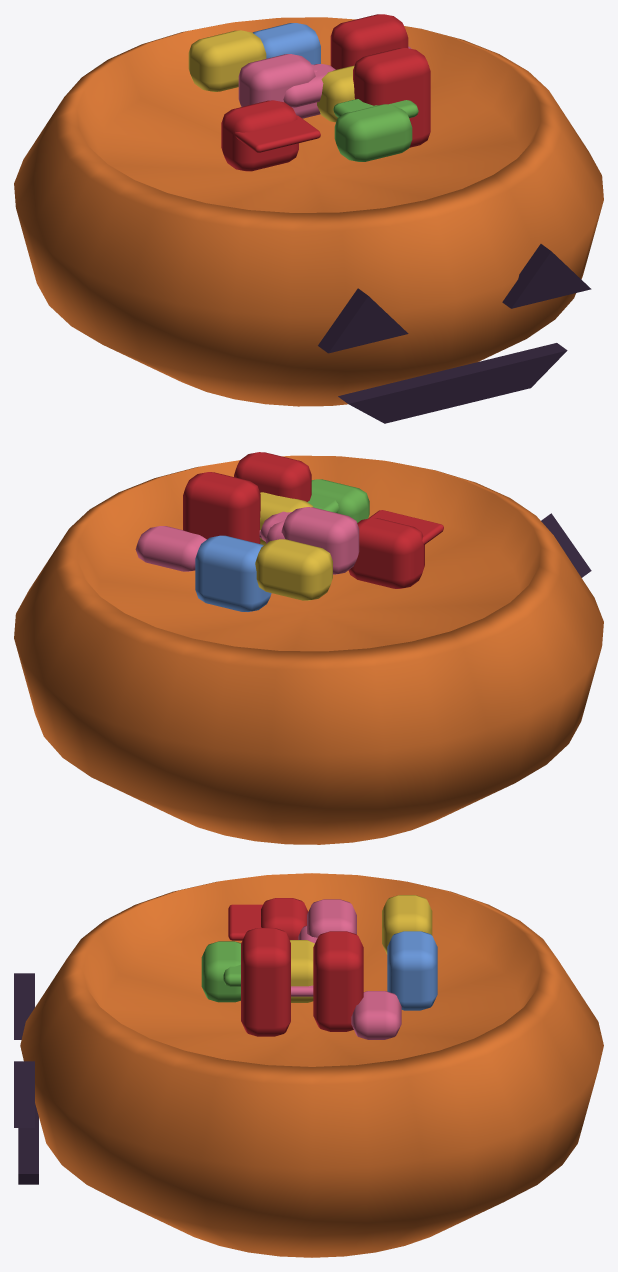
Rendered from furn_candy_bowl.glb.
3 views of the same model, one above another, from view 1: azimuth 30°, elevation 25°; view 2: azimuth 150°, elevation 25°; view 3: azimuth 270°, elevation 25° (orthographic).
Parts seen in each view (by area): view 1: furn_candy_bowl_main; view 2: furn_candy_bowl_main; view 3: furn_candy_bowl_main.
Boxes of the visible parts, bbox=[...] form: furn_candy_bowl_main: bbox=[14, 14, 603, 423]; furn_candy_bowl_main: bbox=[14, 452, 603, 844]; furn_candy_bowl_main: bbox=[14, 873, 603, 1257].
Bounding box in the file's own units: 0.28 × 0.1543 × 0.283.
